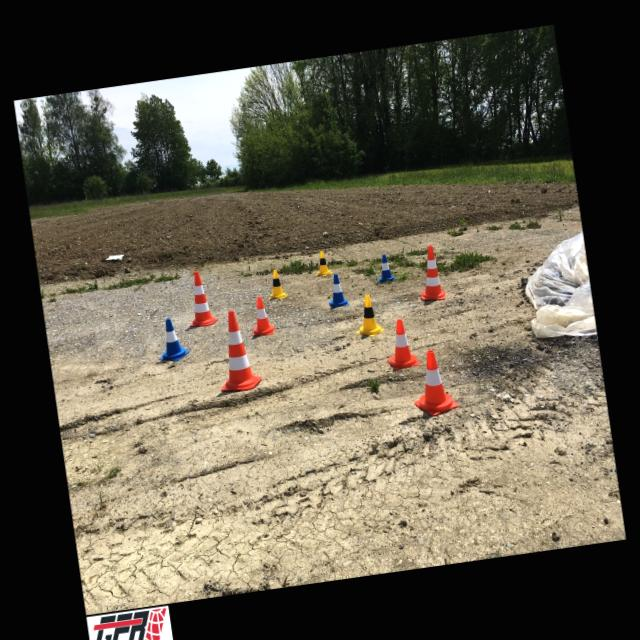blue_cone: (154, 316, 191, 363), (326, 273, 350, 308), (374, 254, 397, 283)
large_orange_cone: (210, 308, 262, 394), (183, 270, 218, 328), (415, 244, 447, 303)
orange_cone: (408, 348, 460, 418), (382, 317, 419, 371), (248, 296, 276, 337)
yellow_cone: (352, 293, 386, 339), (266, 269, 288, 300), (313, 250, 332, 276)
